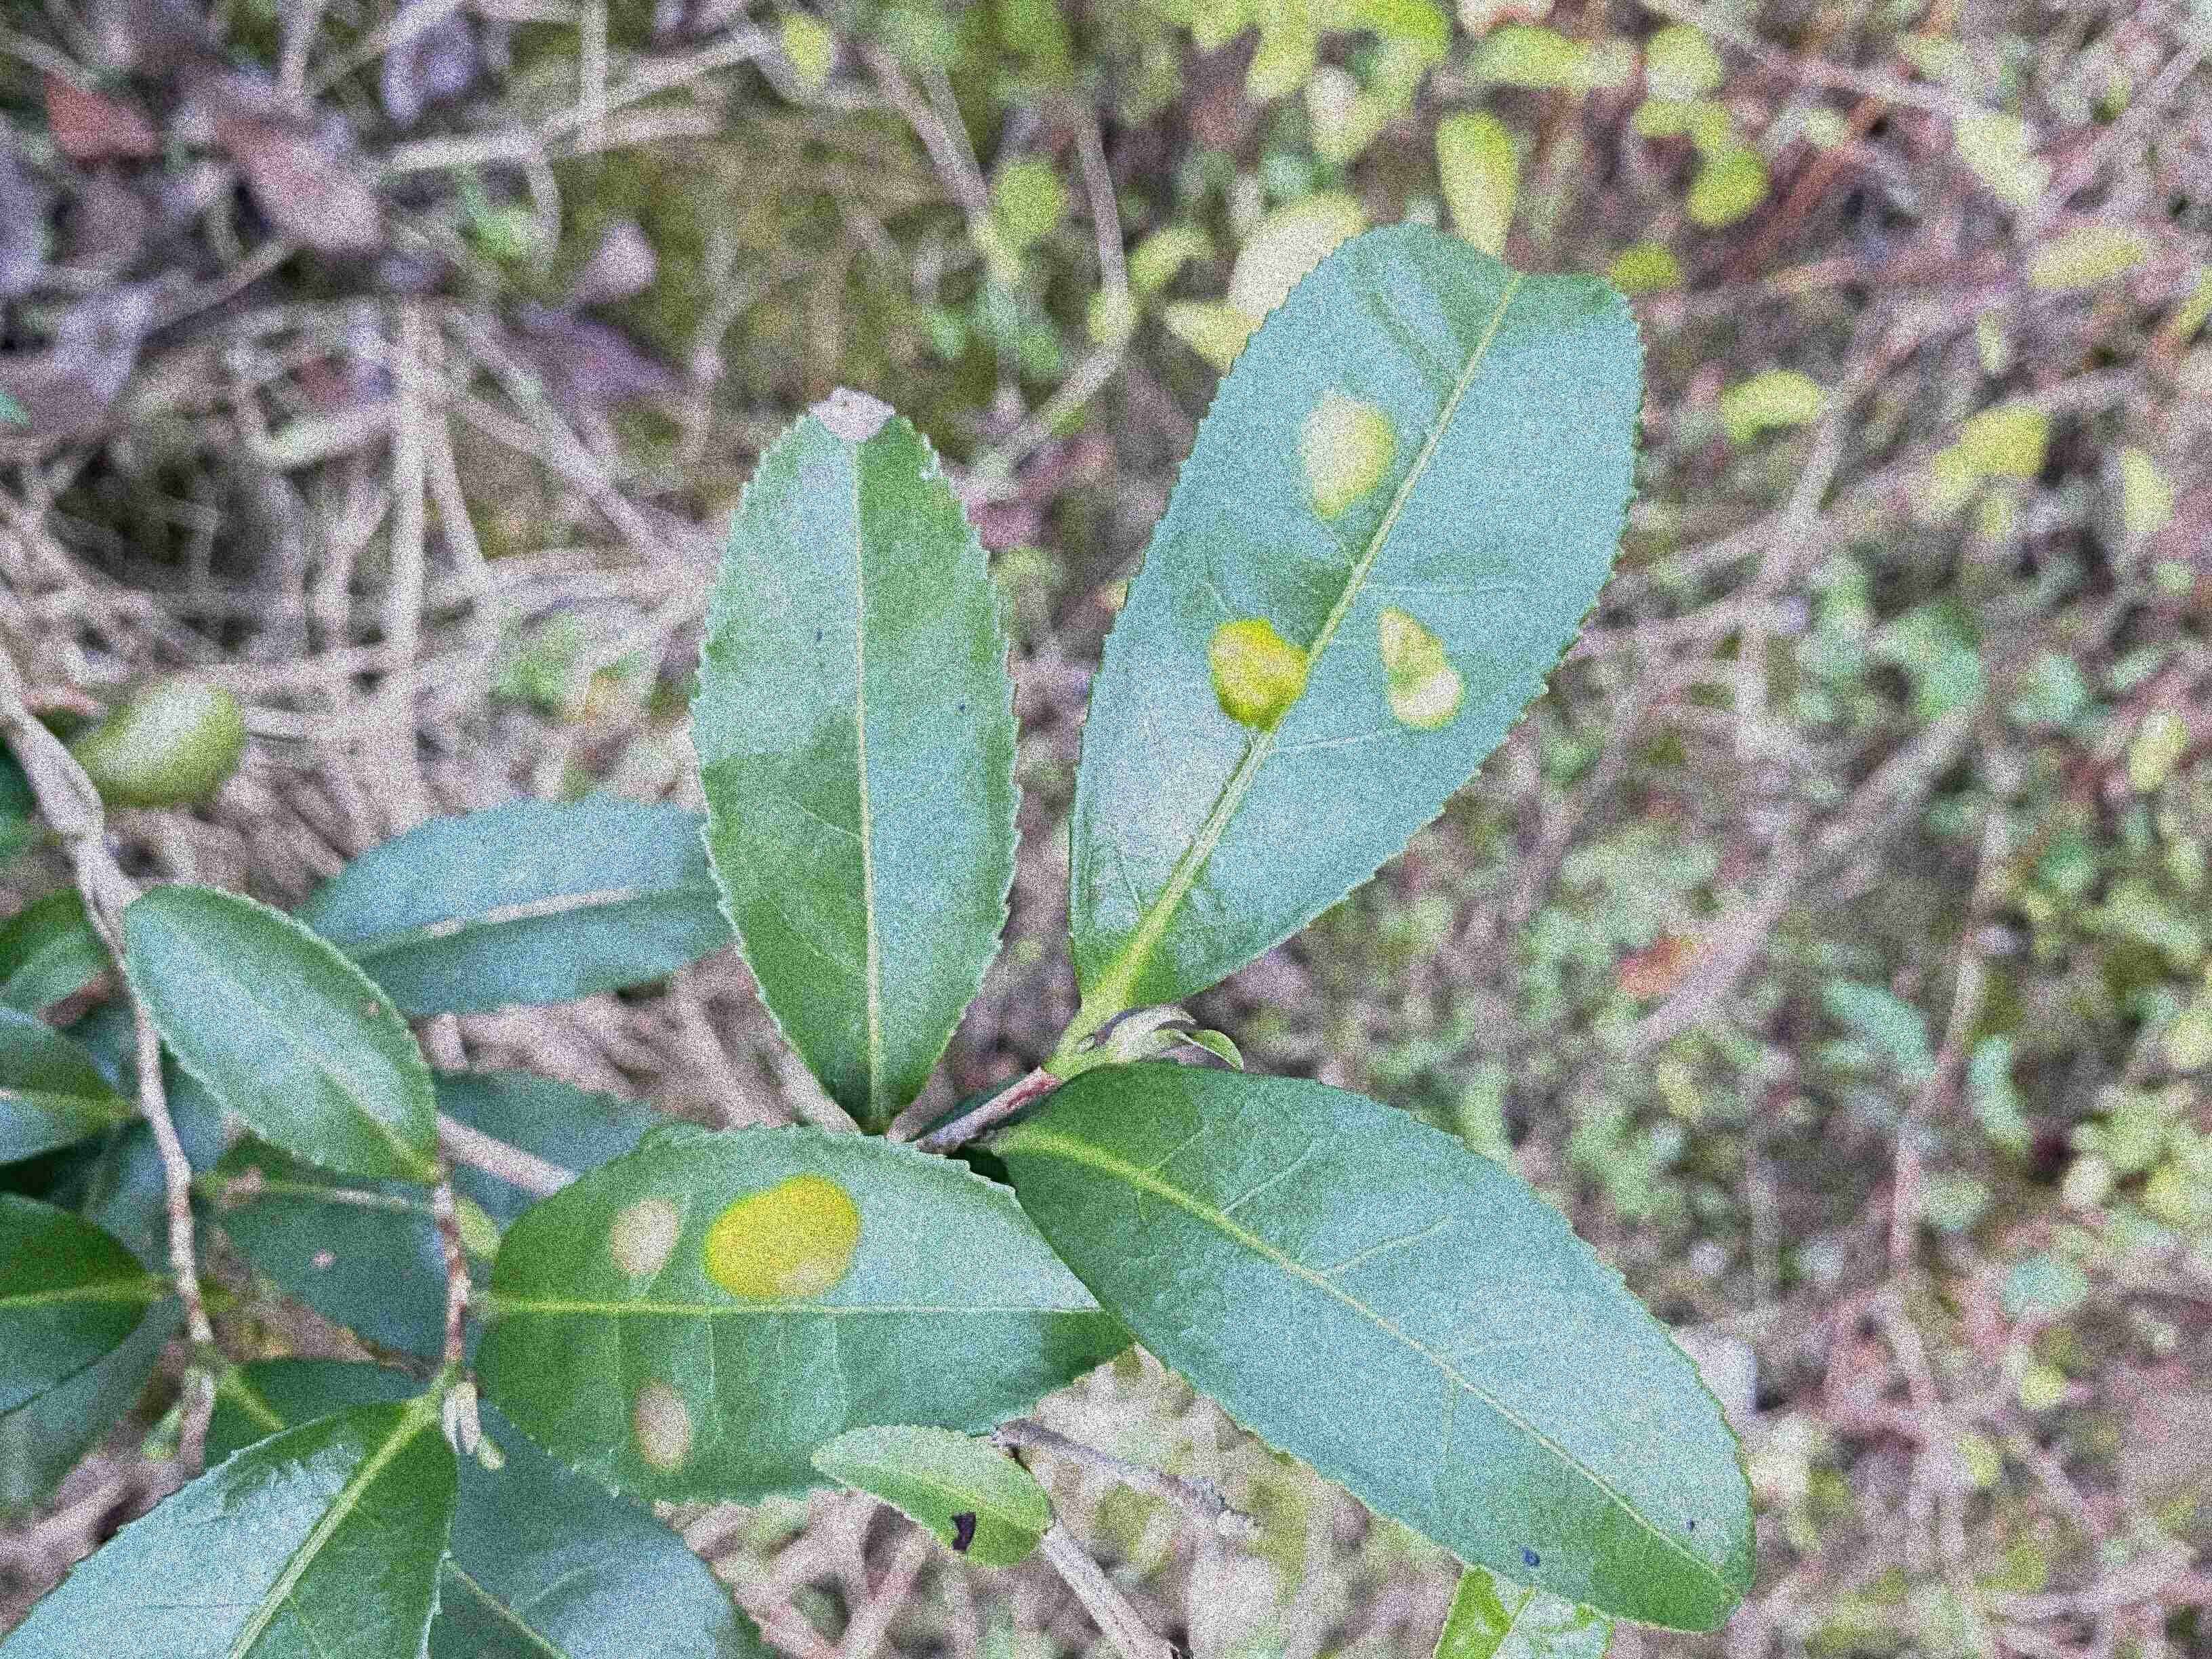chabing_high: (1069, 223, 1651, 1012), (474, 1121, 1134, 1507)
tanju_high: (810, 1427, 1057, 1572)
tanju_low: (995, 1058, 1759, 1638), (686, 387, 1021, 1122)
